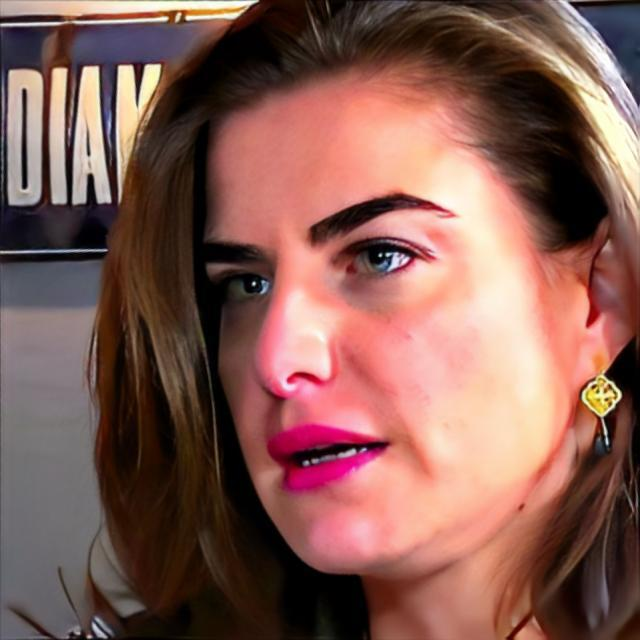disgust: (196, 42, 578, 578)
